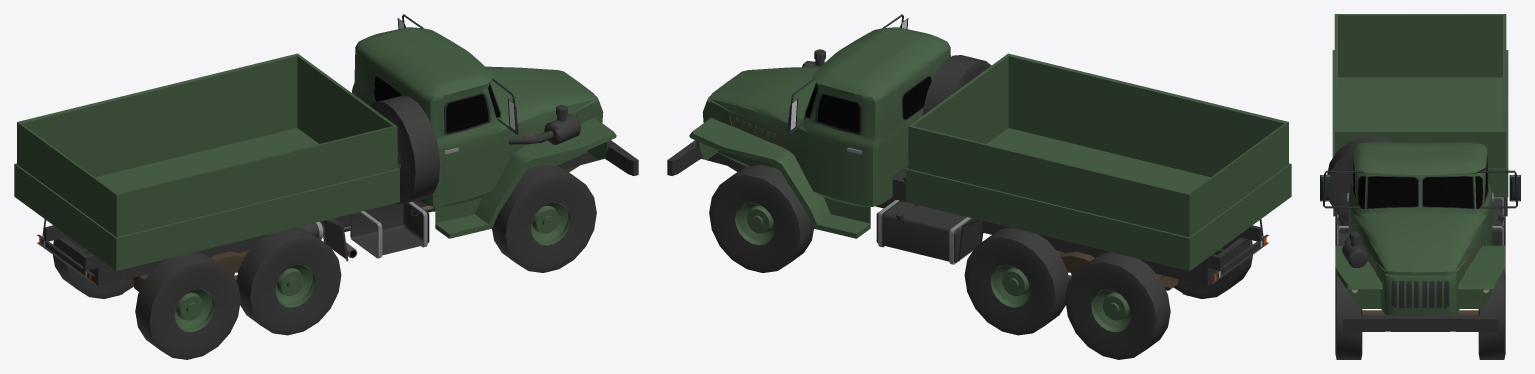
The model's file is ural4320.obj.
3 views of the same model, side by side, from view 1: azimuth 30°, elevation 25°; view 2: azimuth 150°, elevation 25°; view 3: azimuth 270°, elevation 25° (orthographic). The views are drawn at different scales.
Parts seen in each view (by area): view 1: ural4320_material, ural4320_001, ural4320_016, ural4320_014, ural4320_007, ural4320_015, ural4320_017; view 2: ural4320_material, ural4320_001, ural4320_016, ural4320_014, ural4320_007, ural4320_015, ural4320_004, ural4320_005Glass, ural4320_017; view 3: ural4320_material, ural4320_001, ural4320_007, ural4320_014, ural4320_016, ural4320_002, ural4320_008Glass, ural4320_005Glass, ural4320_004, ural4320_015, ural4320_017.
Boxes of the visible parts, <box> form: ural4320_material: <box>14,27,616,332</box>; ural4320_001: <box>42,96,596,359</box>; ural4320_016: <box>296,105,580,256</box>; ural4320_014: <box>37,140,638,285</box>; ural4320_007: <box>374,77,500,133</box>; ural4320_015: <box>133,165,579,291</box>; ural4320_017: <box>315,202,427,258</box>; ural4320_material: <box>689,27,1291,332</box>; ural4320_001: <box>709,55,1263,359</box>; ural4320_016: <box>802,49,973,262</box>; ural4320_014: <box>667,140,1268,285</box>; ural4320_007: <box>805,77,931,133</box>; ural4320_015: <box>728,166,1178,290</box>; ural4320_004: <box>729,112,784,147</box>; ural4320_005Glass: <box>805,76,931,135</box>; ural4320_017: <box>878,200,972,264</box>; ural4320_material: <box>1332,14,1508,315</box>; ural4320_001: <box>1327,136,1507,359</box>; ural4320_007: <box>1353,164,1487,208</box>; ural4320_014: <box>1343,314,1497,332</box>; ural4320_016: <box>1335,198,1505,268</box>; ural4320_002: <box>1391,280,1449,308</box>; ural4320_008Glass: <box>1320,170,1520,208</box>; ural4320_005Glass: <box>1352,156,1488,209</box>; ural4320_004: <box>1360,237,1480,272</box>; ural4320_015: <box>1362,310,1478,315</box>; ural4320_017: <box>1337,197,1503,245</box>.
Size of the model in its own units: 7.37 by 2.65 by 2.81.
18 materials, 18 textured.
